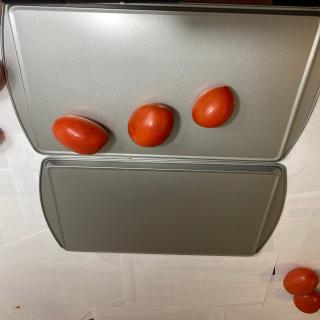Tomato: (52, 115, 109, 155), (127, 102, 174, 148), (192, 85, 235, 128), (283, 267, 319, 296), (293, 290, 320, 314)
